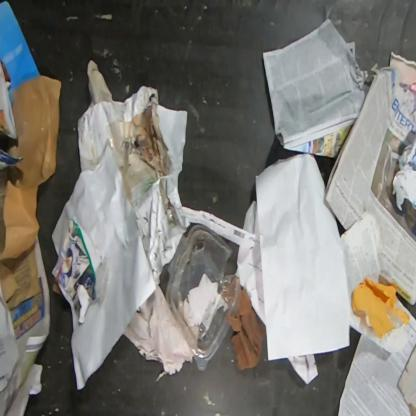cardboard: (393, 135, 415, 213)
rigid_plastic: (165, 224, 241, 370)
